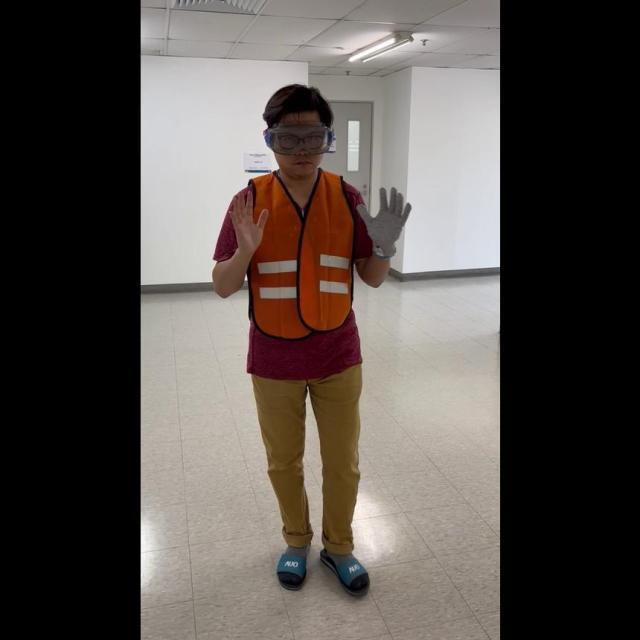bare_hand: (226, 181, 267, 257)
gloved_hand: (356, 181, 412, 258)
